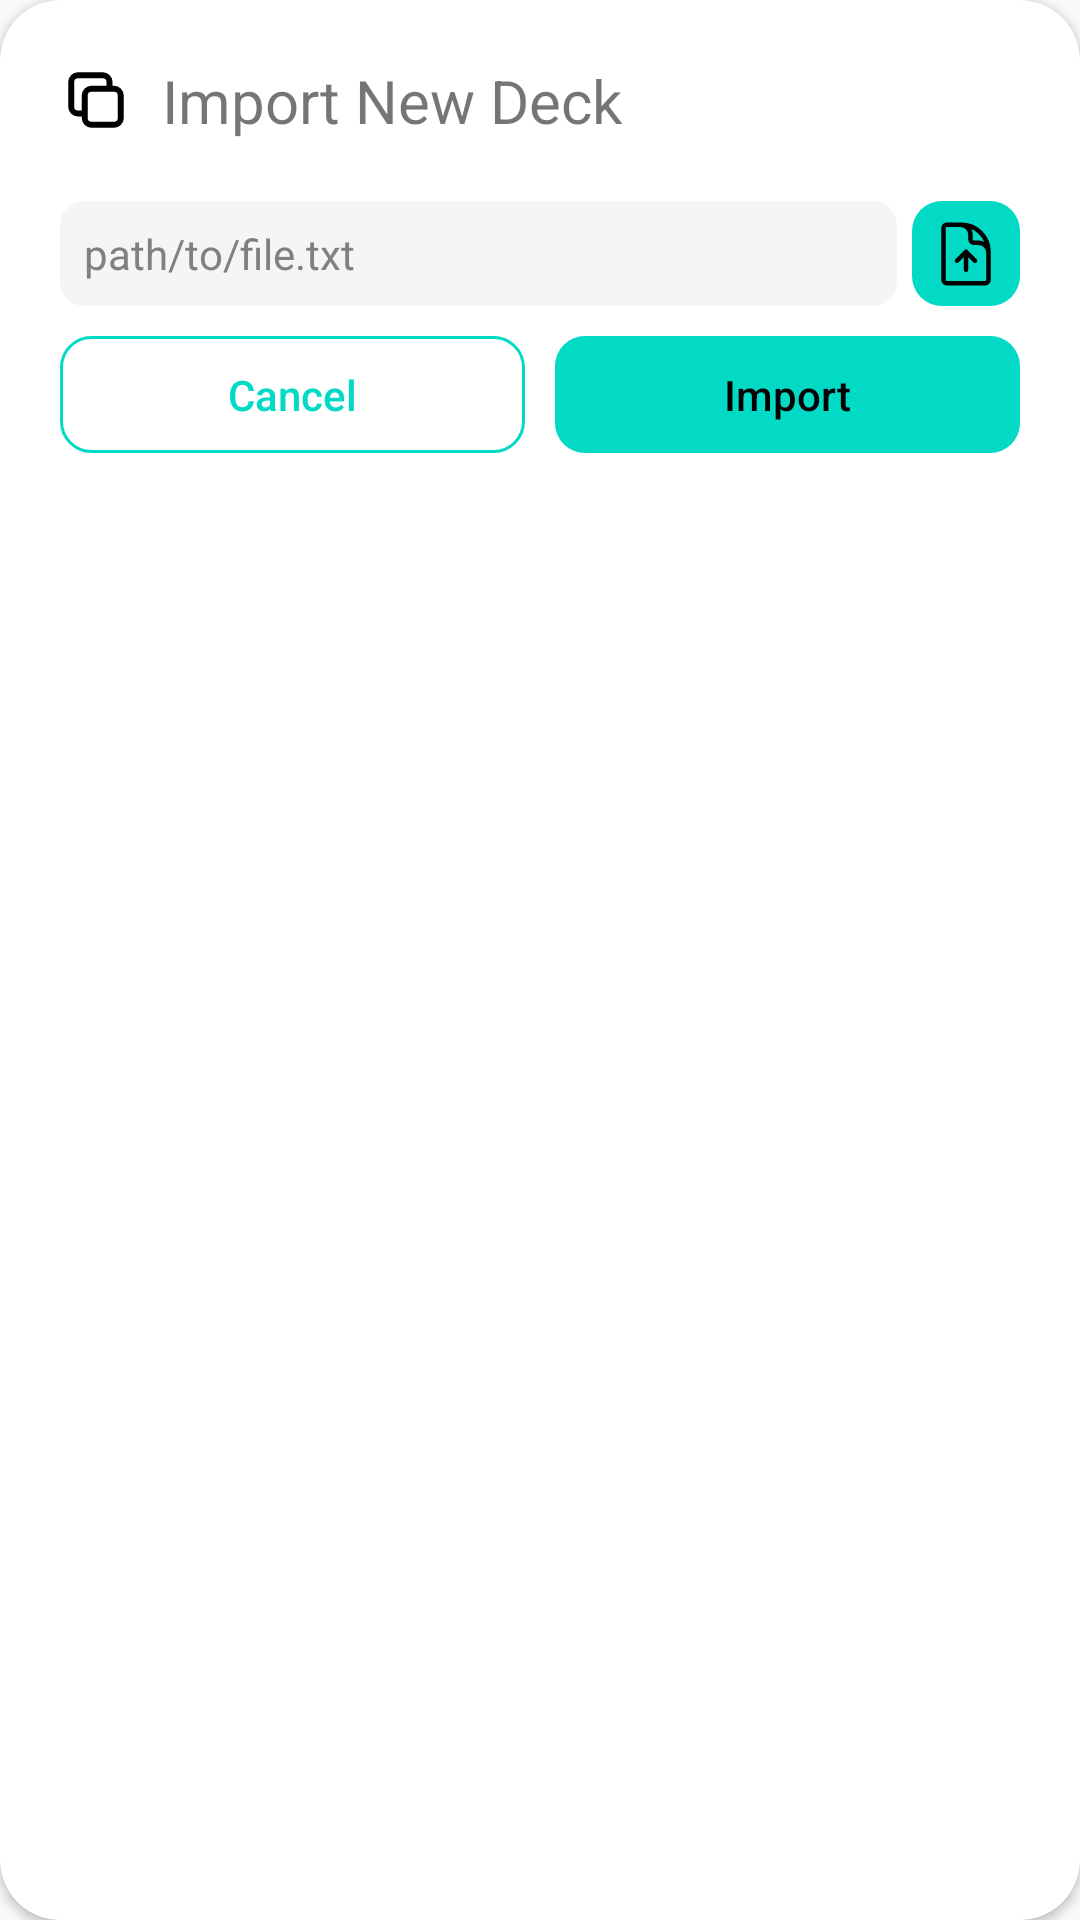

Locate icon controls on the screen. Image size 1080 x 1920, boxes as detection(x1, y1, x2, y2).
decks: detection(68, 72, 124, 128)
upload file: detection(912, 201, 1020, 306)
